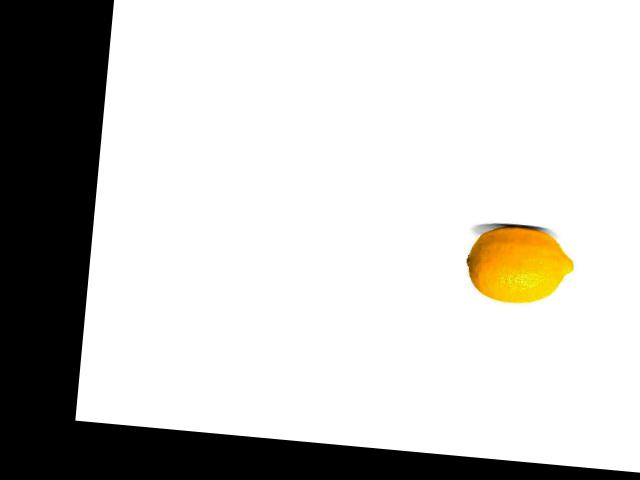lemon: (458, 222, 580, 306)
